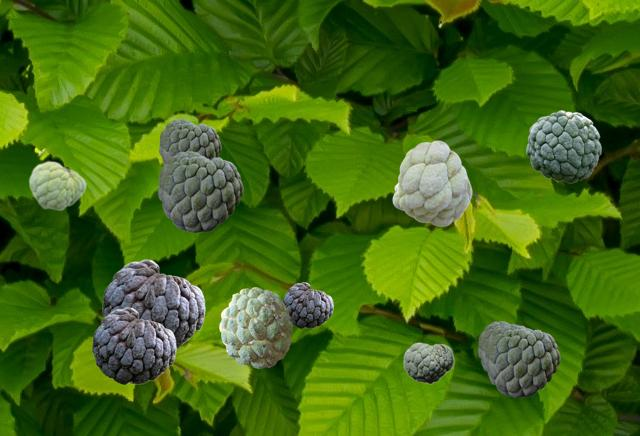atis: (102, 259, 204, 349), (158, 151, 242, 231), (392, 140, 471, 225), (92, 307, 175, 383), (219, 287, 291, 367), (484, 324, 559, 396), (526, 110, 600, 182), (28, 160, 85, 210), (159, 119, 220, 165), (478, 321, 532, 371), (282, 282, 332, 327), (403, 342, 453, 383)
